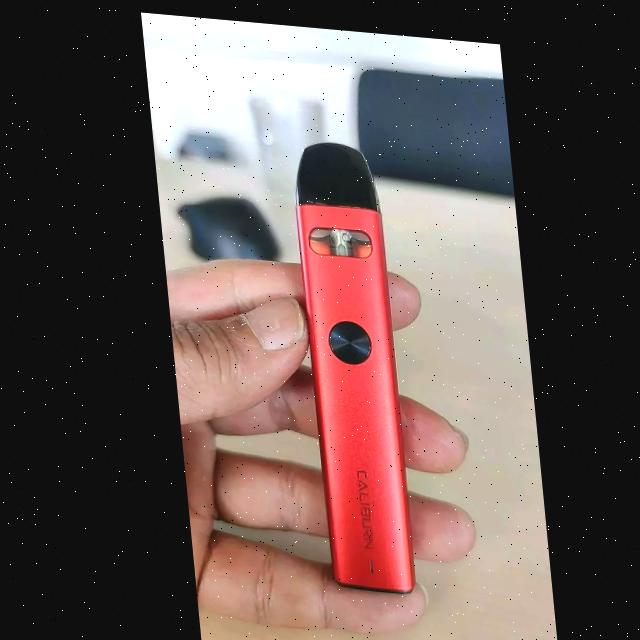vape: (285, 135, 406, 588)
